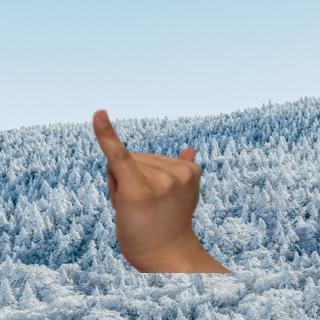HAVE: (79, 103, 221, 271)
